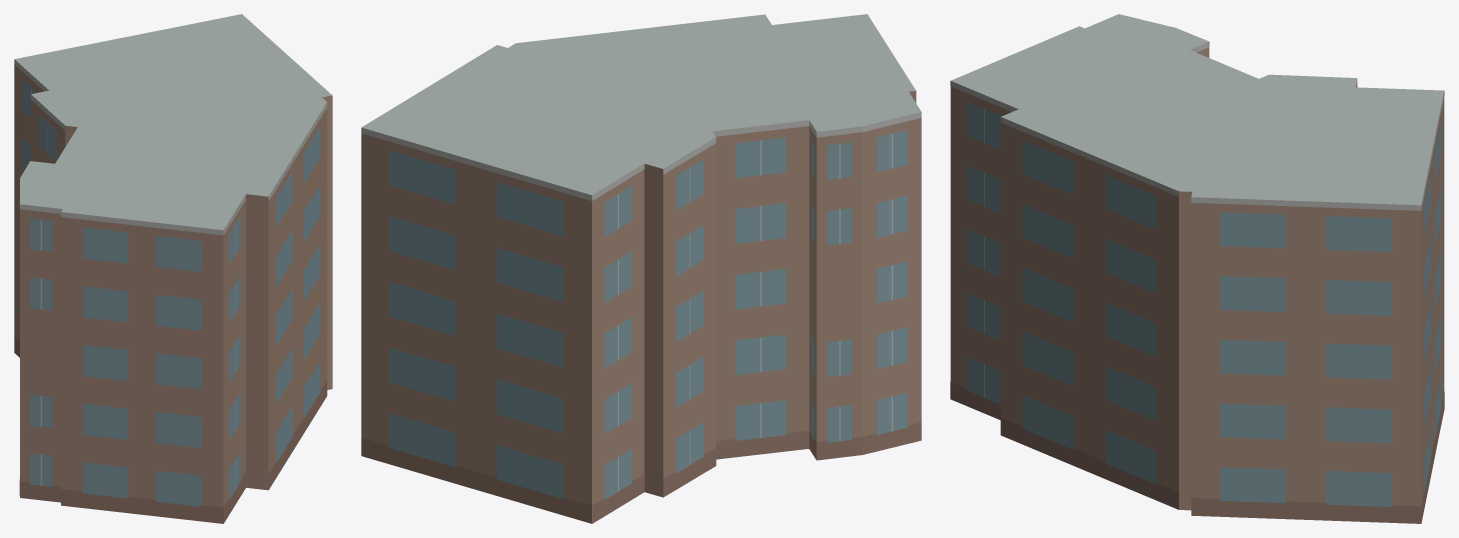
File: survey-upis-32625857.glb
3 renders of one model, left to right at view 1: azimuth 30°, elevation 25°; view 2: azimuth 150°, elevation 25°; view 3: azimuth 270°, elevation 25°, orthographic. The views are drawn at different scales.
Visible parts, largest first — view 1: survey-upis-32625857.tmp; view 2: survey-upis-32625857.tmp; view 3: survey-upis-32625857.tmp.
Boxes of the visible parts, x1,y1,x2,y2 form: survey-upis-32625857.tmp: [14, 14, 332, 523]; survey-upis-32625857.tmp: [361, 14, 921, 523]; survey-upis-32625857.tmp: [950, 14, 1444, 523].
Size of the model in its own units: 17.92 by 13.9 by 19.54.
